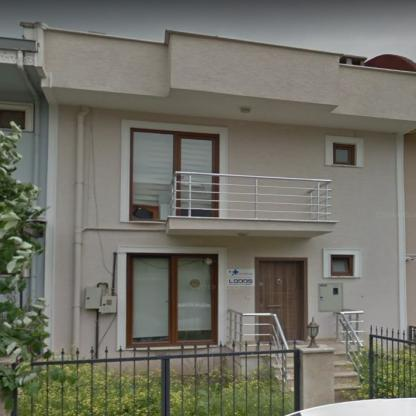door: (256, 257, 306, 341), (178, 132, 218, 216)
window: (127, 254, 216, 346), (129, 128, 179, 220), (333, 141, 358, 166), (2, 108, 26, 130), (330, 254, 353, 275)
